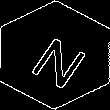N_NE: (20, 23, 90, 87)
